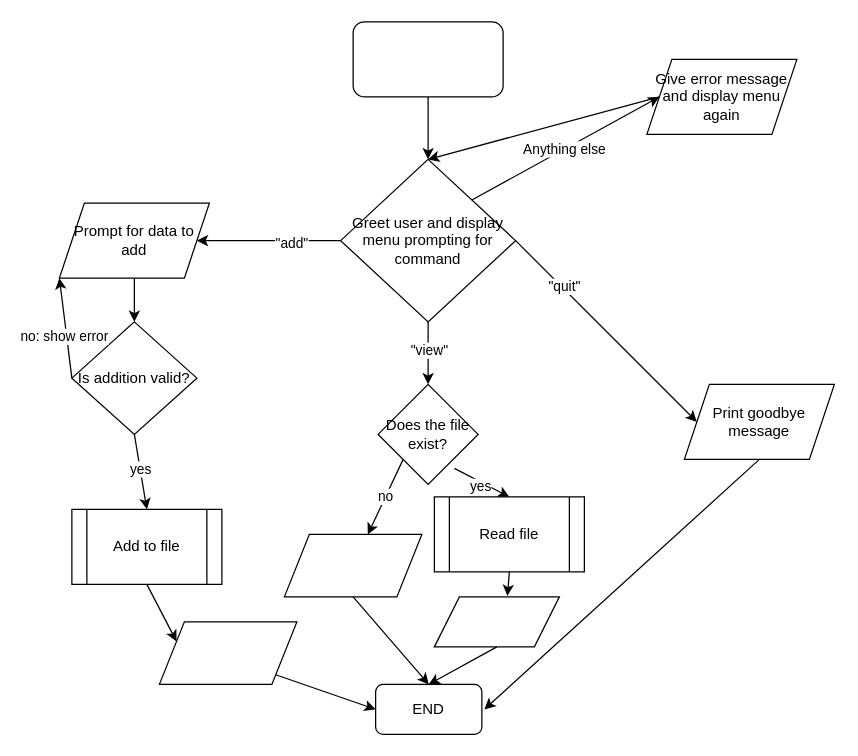
Some shapes in this 858 by 756 pixel diagram are drawn without their labels. Here are the shapes that lost their labels. From the top down, the box of each, then its label:
(352, 21, 503, 97): START: user runs ./aq_logger.bash
(283, 533, 422, 597): Create file and notify user
(433, 596, 559, 647): Display data
(158, 621, 297, 684): Print: added successfully
